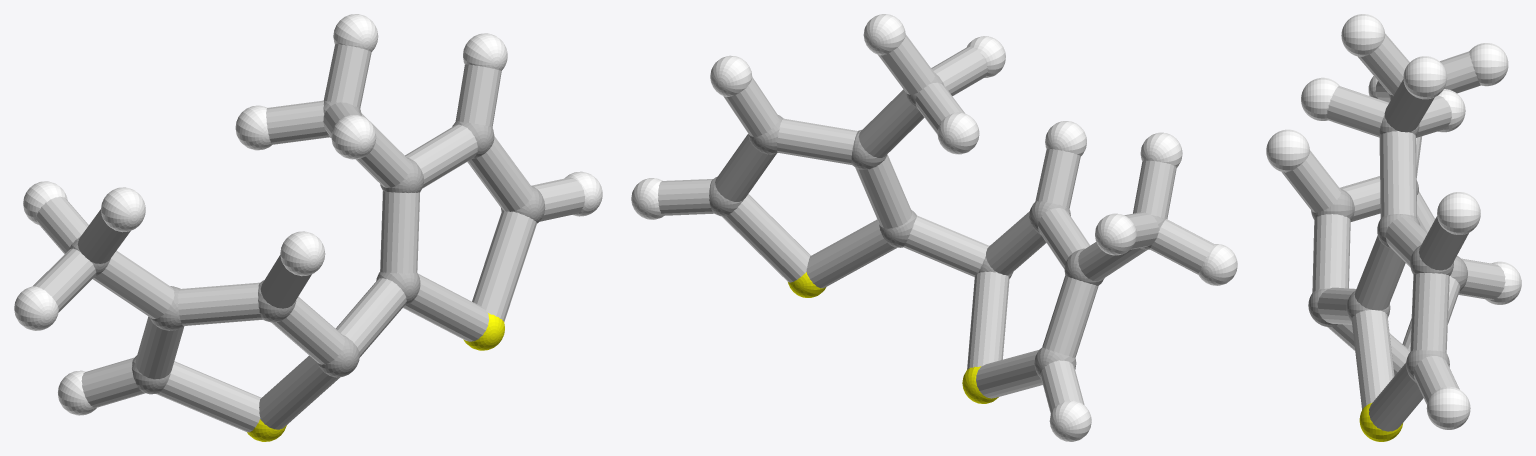
The model's file is Methylthiophene_Phi_60_Theta_150_Methylthiophene.glb.
The picture shows the model from 3 angles, left to right: view 1: azimuth 30°, elevation 25°; view 2: azimuth 150°, elevation 25°; view 3: azimuth 270°, elevation 25°; orthographic projection. The views are drawn at different scales.
Parts seen in each view (by area): view 1: grp7965, grp3621, grp1, grp7241; view 2: grp7965, grp3621, grp1, grp7241; view 3: grp7965, grp3621, grp1, grp7241.
Boxes of the visible parts, x1,y1,x2,y2 form: grp7965: (33, 44, 584, 432); grp3621: (14, 14, 602, 415); grp1: (69, 101, 545, 394); grp7241: (247, 313, 504, 441); grp7965: (658, 34, 1214, 413); grp3621: (631, 14, 1237, 441); grp1: (709, 73, 1165, 378); grp7241: (788, 272, 998, 403); grp7965: (1281, 33, 1505, 431); grp3621: (1266, 14, 1521, 429); grp1: (1308, 93, 1467, 382); grp7241: (1359, 403, 1402, 441).
Size of the model in its own units: 9.43 by 5.8 by 3.5.
